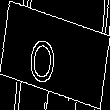O_N: (39, 25, 71, 85)
